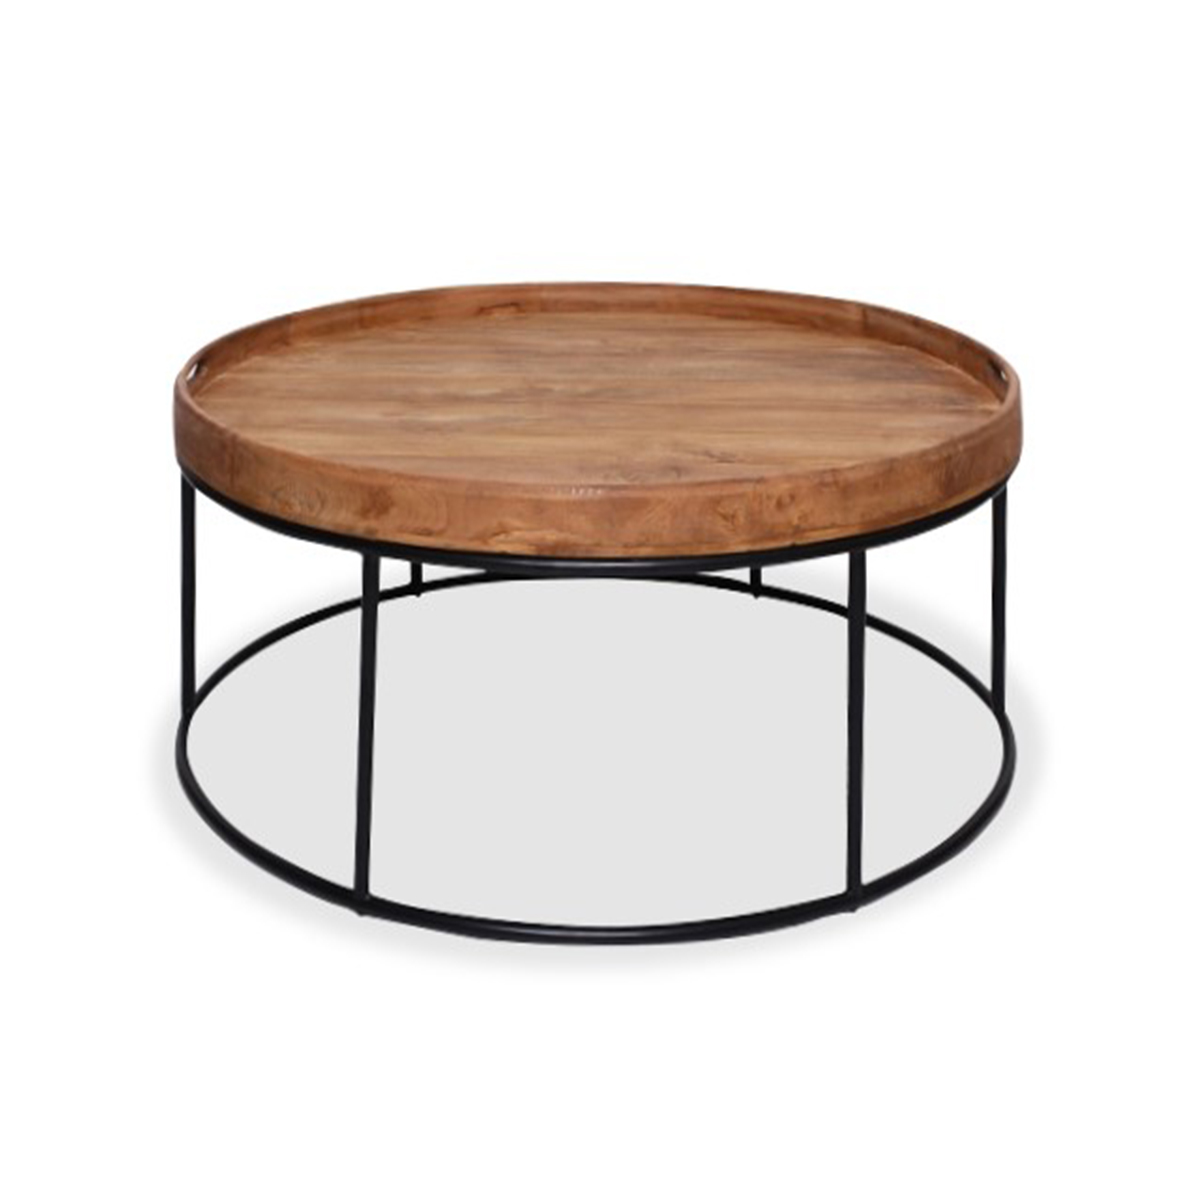meja: (118, 265, 1030, 973)
